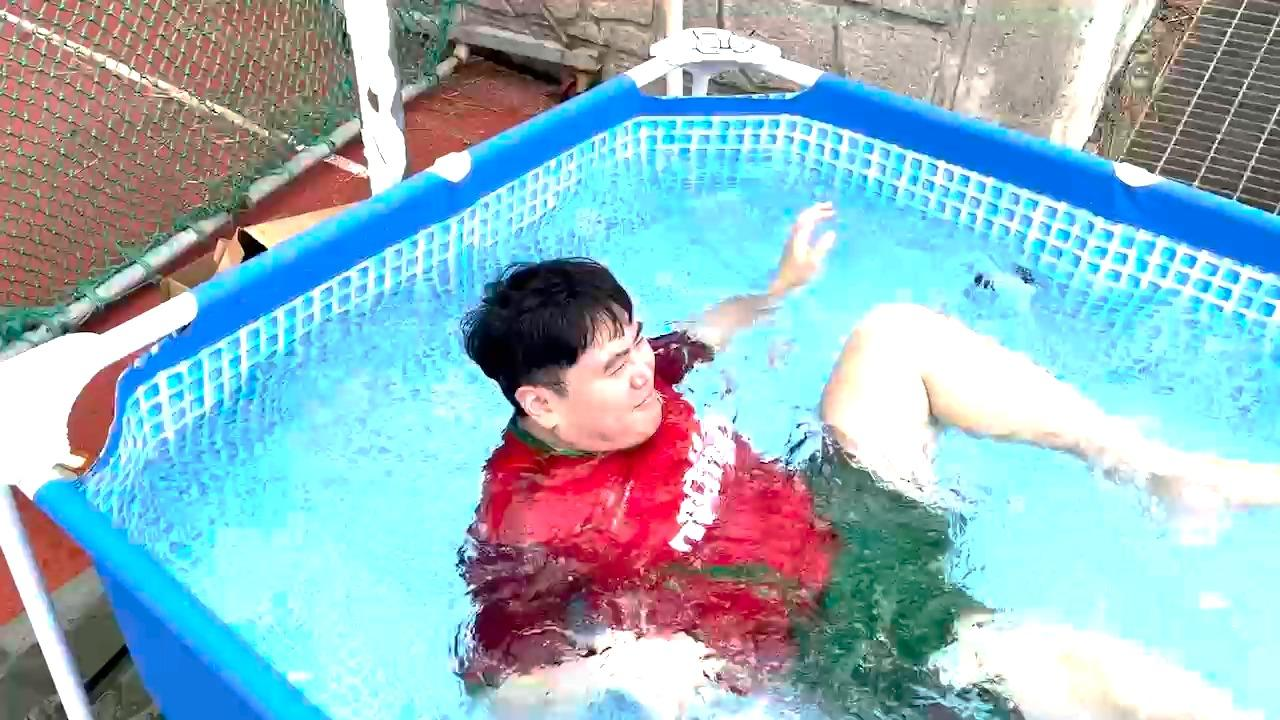Drowning: (437, 196, 1280, 720)
